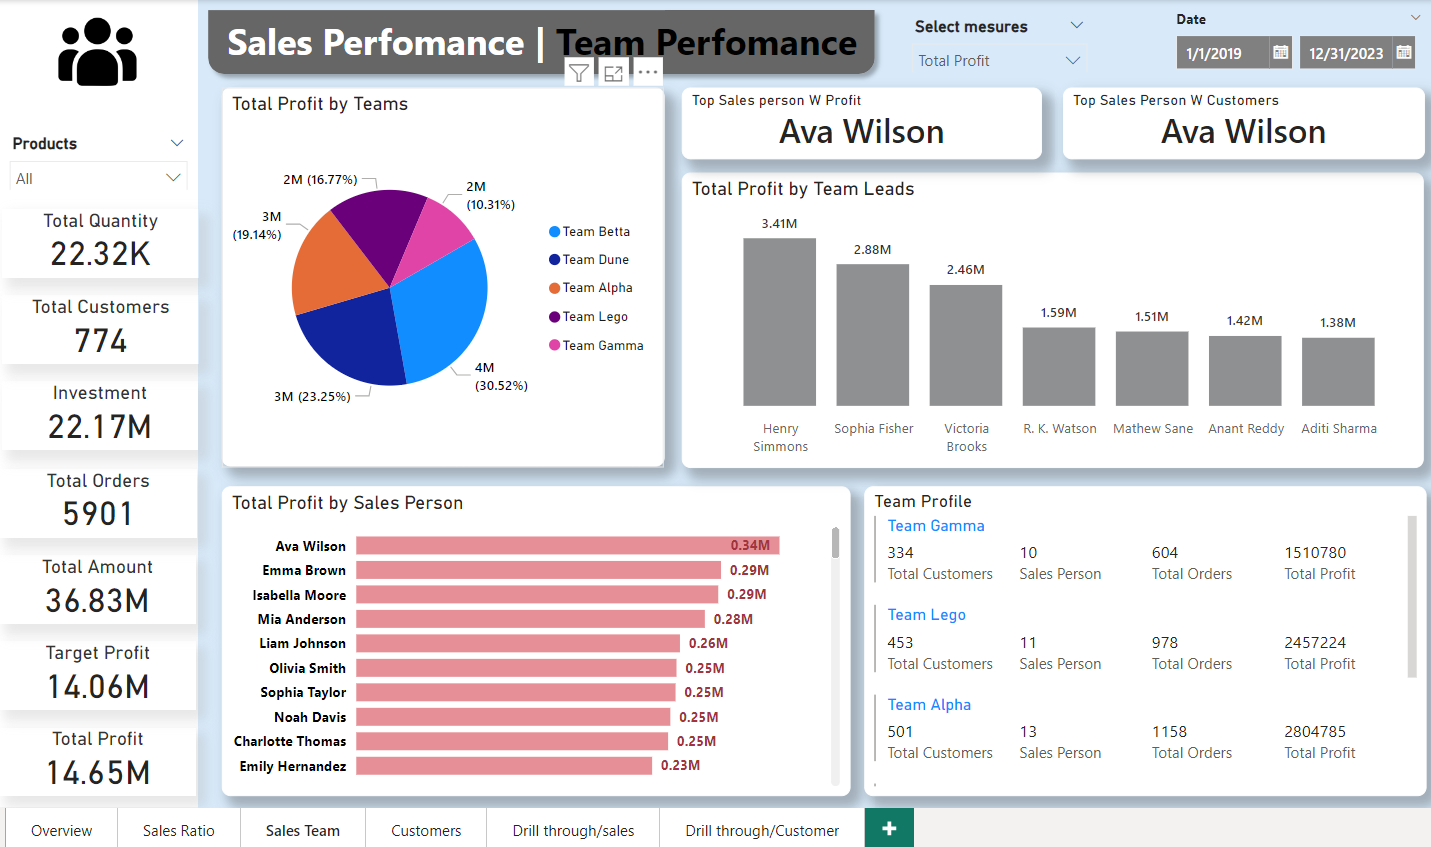

This screenshot's page, from the dashboard's own definition file:
{"tool":"powerbi","page":{"name":"Sales Team","canvas":[1280,720],"ordinal":2},"visuals":[{"type":"shape","box":[178.6,0,611.7,74.8],"z":0},{"type":"shape","box":[0,0,178.1,719.4],"z":1000},{"type":"card","title":"Total Orders","fields":{"Values":["f-sales data.Total Orders"]},"box":[1.2,417.1,176.1,61.5],"z":2000},{"type":"card","title":"Total Customers","fields":{"Values":["f-sales data.Total Customers"]},"box":[3.6,262.9,176.1,61.5],"z":3000},{"type":"card","title":"Investment","fields":{"Values":["f-sales data.Company Cost"]},"box":[3.6,340,174.9,61.5],"z":4000},{"type":"card","title":"Total Amount","fields":{"Values":["f-sales data.Total Amount"]},"box":[1.2,494.2,174.9,61.5],"z":5000},{"type":"card","title":"Total Profit","fields":{"Values":["f-sales data.Total Proit"]},"box":[1.4,647.9,175.3,61],"z":6000},{"type":"card","title":"Target Profit","fields":{"Values":["d-target sale.Target Profit"]},"box":[1.4,571.3,175.3,61],"z":7000},{"type":"slicer","fields":{"Values":["d-target sale.Products"]},"box":[0,114.6,178.6,54.3],"z":8000},{"type":"textbox","box":[199.1,9.7,591.2,54.3],"z":9000},{"type":"card","title":"Total Quantity","fields":{"Values":["f-sales data.Quantity"]},"box":[3.6,185.8,176.1,61.5],"z":10000},{"type":"pieChart","title":"Total Profit by Teams","fields":{"Y":["f-sales data.Total Customers"],"Category":["d-sales team.Team Name"]},"box":[199.1,78.4,394.5,337.8],"z":11000},{"type":"barChart","fields":{"Y":["f-sales data.Total Customers"],"Category":["d-sales team.Sales Person"]},"box":[199.1,433.1,559.8,276.3],"z":12000},{"type":"columnChart","title":"Total Profit by Team Leads","fields":{"Y":["f-sales data.Total Customers"],"Category":["d-sales team.Team Lead"]},"box":[609.3,153.2,661.1,263],"z":13000},{"type":"multiRowCard","title":"Team Profile","fields":{"Values":["d-sales team.Team Name","f-sales data.Total Customers","d-sales team.Sales Person","f-sales data.Total Orders","f-sales data.Total Profit"]},"box":[770.9,433.1,500.7,276.3],"z":14000},{"type":"slicer","fields":{"Values":["Select mesures.Select mesures"]},"box":[803.5,9.7,176.1,54.3],"z":15000},{"type":"card","title":"Top Sales person W Profit","fields":{"Values":["d-sales team.Topsellername"]},"box":[609.3,78.4,320.9,63.9],"z":16000},{"type":"card","title":"Top Sales Person W Customers","fields":{"Values":["d-sales team.TopSalespersonName12"]},"box":[948.3,78.4,322.1,63.9],"z":17000},{"type":"slicer","title":"Pick Date","fields":{"Values":["f-sales data.Order Date"]},"box":[1036.3,3.6,243.7,74.8],"z":18000},{"type":"image","box":[49.5,3.6,79.6,85.7],"z":19000}]}

Visuals, with their boxes on the page's 1280x720 design canvas (x1, y1, x2, y2). These are canvas units, not pixel positions in the 1431x847 screenshot, which may show the page scaled, cropped or inside an application window:
shape: detection(179, 0, 790, 75)
shape: detection(0, 0, 178, 719)
"Total Orders" card: detection(1, 417, 177, 479)
"Total Customers" card: detection(4, 263, 180, 324)
"Investment" card: detection(4, 340, 178, 402)
"Total Amount" card: detection(1, 494, 176, 556)
"Total Profit" card: detection(1, 648, 177, 709)
"Target Profit" card: detection(1, 571, 177, 632)
slicer - d-target sale.Products: detection(0, 115, 179, 169)
textbox: detection(199, 10, 790, 64)
"Total Quantity" card: detection(4, 186, 180, 247)
"Total Profit by Teams" pieChart: detection(199, 78, 594, 416)
barChart - f-sales data.Total Customers x d-sales team.Sales Person: detection(199, 433, 759, 709)
"Total Profit by Team Leads" columnChart: detection(609, 153, 1270, 416)
"Team Profile" multiRowCard: detection(771, 433, 1272, 709)
slicer - Select mesures.Select mesures: detection(804, 10, 980, 64)
"Top Sales person W Profit" card: detection(609, 78, 930, 142)
"Top Sales Person W Customers" card: detection(948, 78, 1270, 142)
"Pick Date" slicer: detection(1036, 4, 1280, 78)
image: detection(50, 4, 129, 89)
